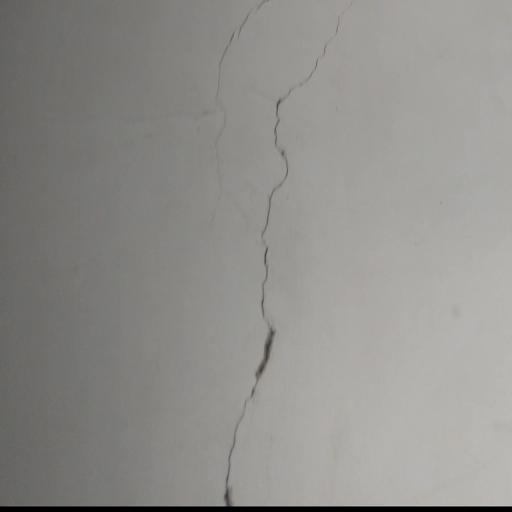minor_crack: (209, 0, 359, 506)
